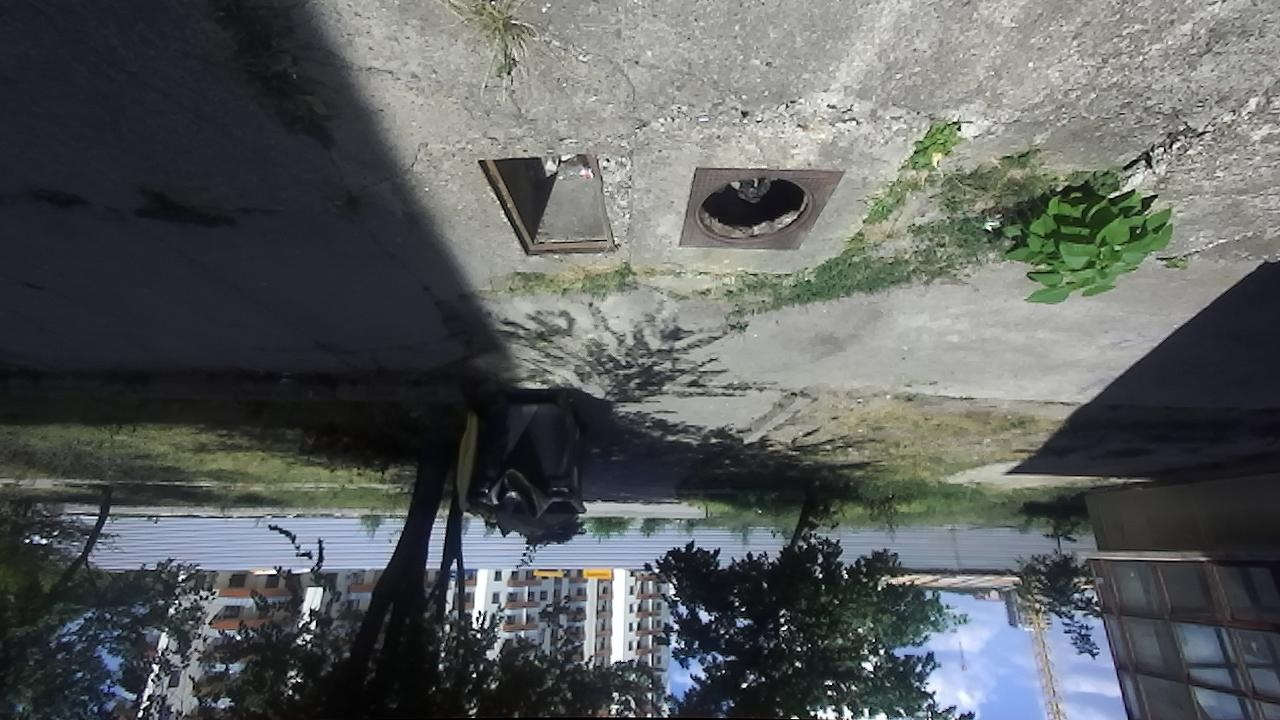drain: (478, 146, 620, 259), (692, 173, 822, 248)
